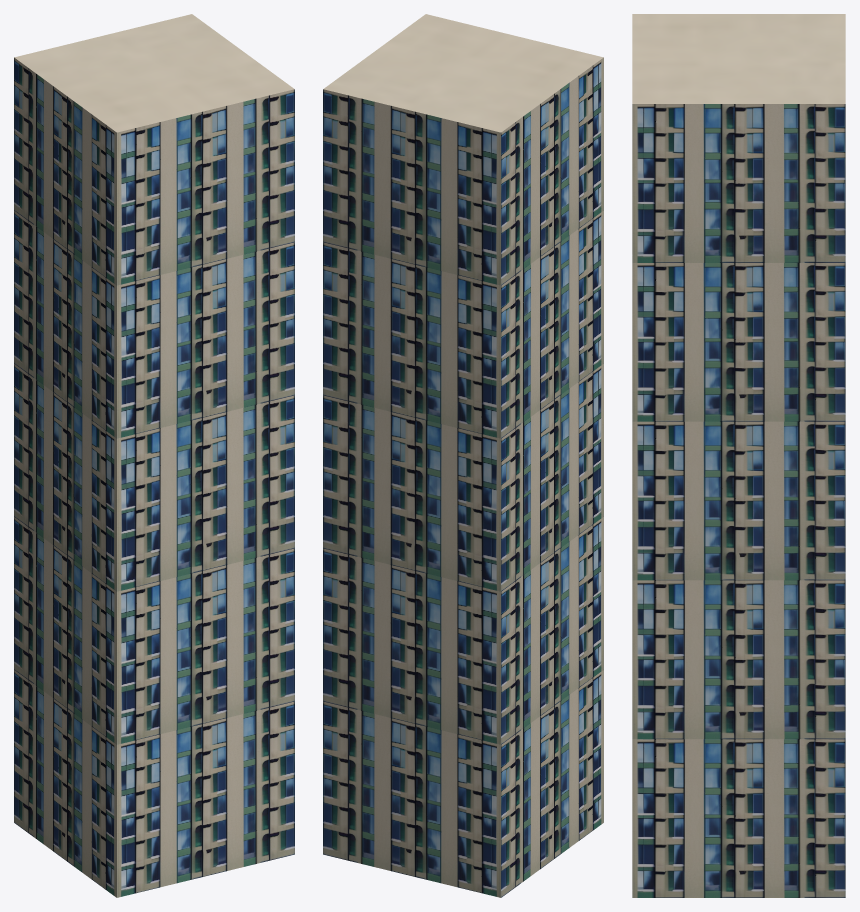
The picture shows the model from 3 angles, left to right: view 1: azimuth 30°, elevation 25°; view 2: azimuth 150°, elevation 25°; view 3: azimuth 270°, elevation 25°; orthographic projection. The views are drawn at different scales.
Parts seen in each view (by area): view 1: B5; view 2: B5; view 3: B5.
Boxes of the visible parts, box(x1,y1,x2,y2) form: B5: box(14, 14, 294, 897); B5: box(323, 14, 603, 897); B5: box(632, 14, 845, 897).
Bounding box in the file's own units: 496 × 2039 × 496.
Materials: 1 (1 with a texture image).
